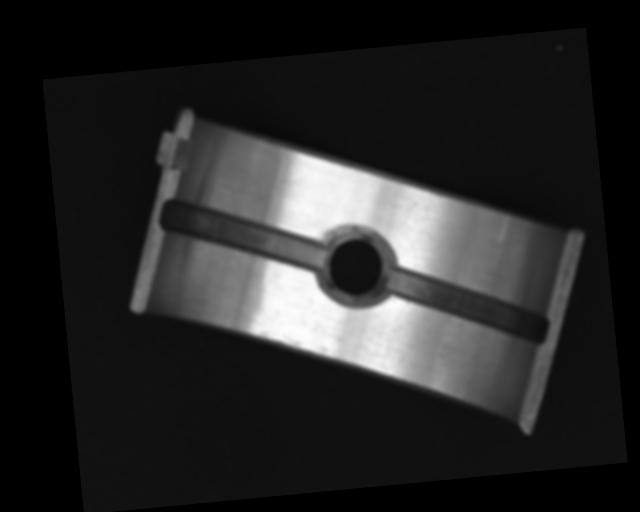gap: (382, 254, 551, 358), (160, 186, 325, 285)
hole: (317, 225, 394, 308)
